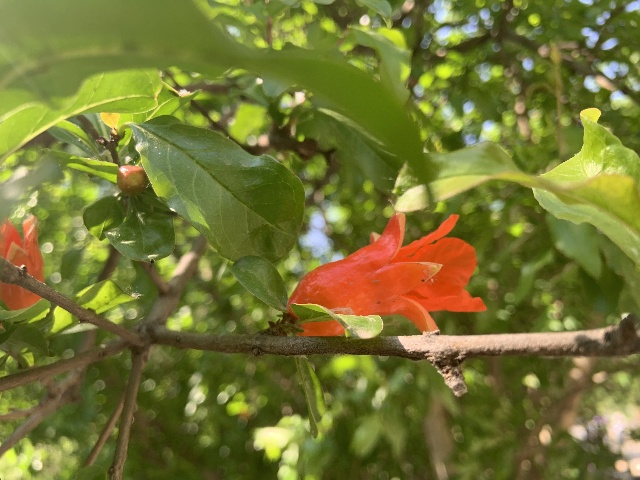bud: (118, 164, 148, 195)
flower: (292, 212, 487, 339), (0, 216, 45, 310)
